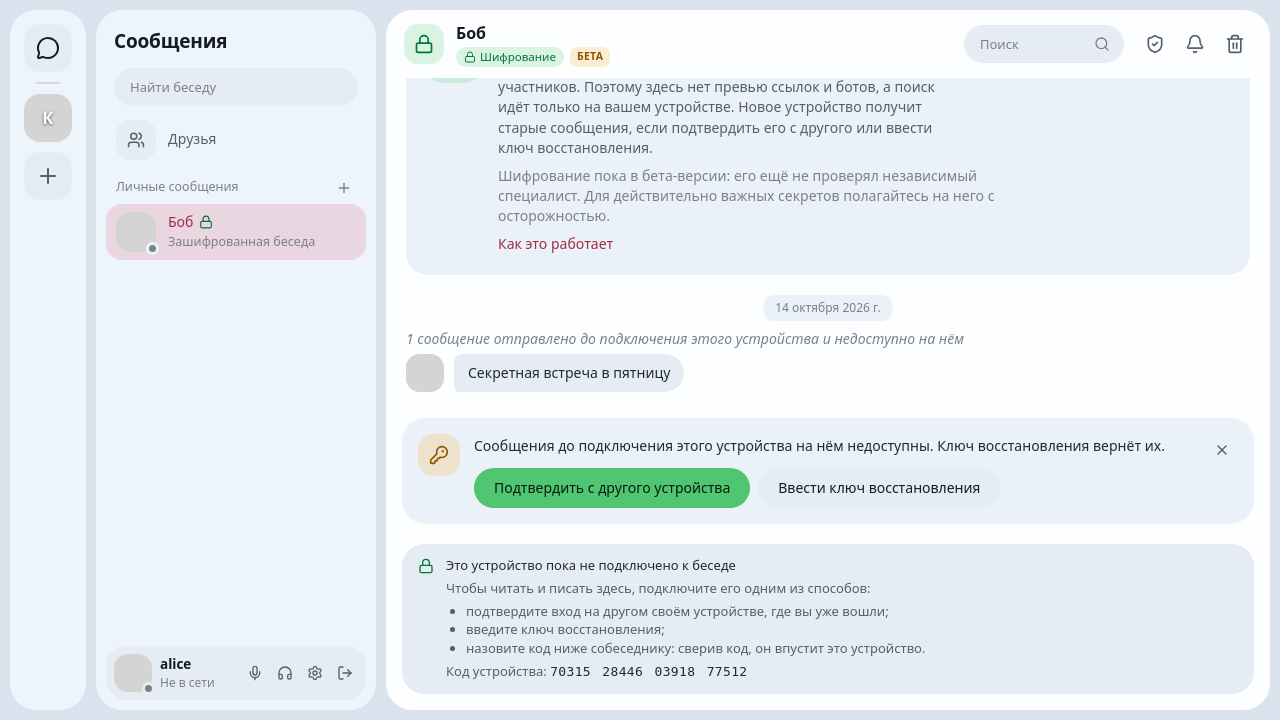
Scenario: encrypted conversations › take the recovery key right in the waiting notice
Check: the button "Ввести ключ восстановления" is shown, box [758,468,1000,508]
# That notice hidden, the waiting one offers the key.
What coordinates should you click on to do the following:
click the button named "Скрыть подсказку"
I would click on:
 (1222, 450)
Its box is [1206,434,1238,466].
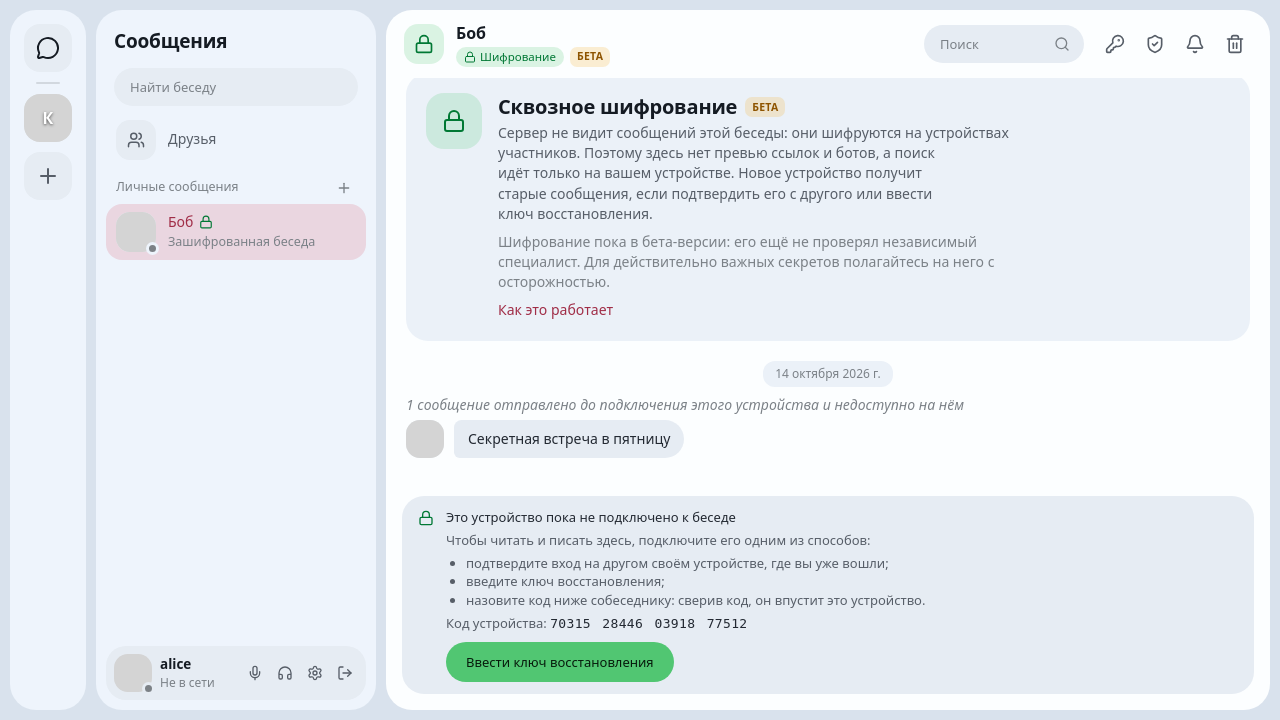
What coordinates should you click on to do the following:
click the button "Ввести ключ восстановления"
I would click on:
 (560, 662)
Its box is [446,642,674,682].
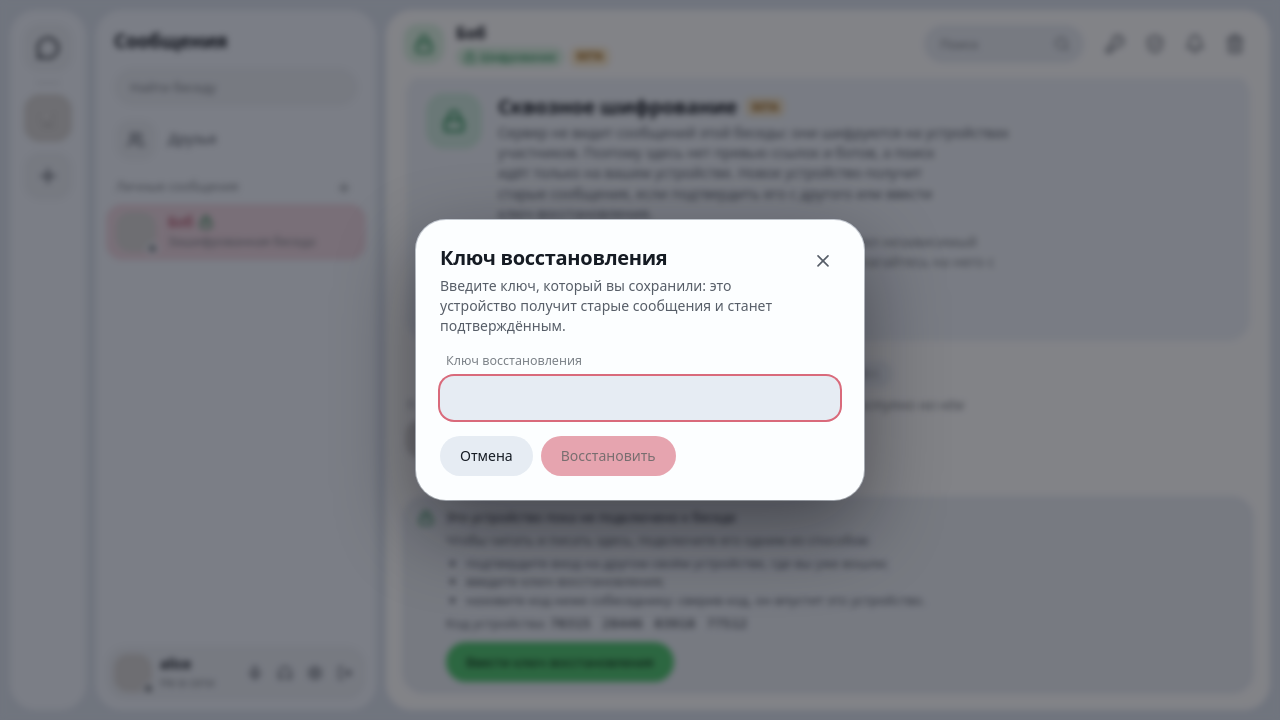
Check: the dialog "Ключ восстановления" is shown, box [416,220,864,500]
